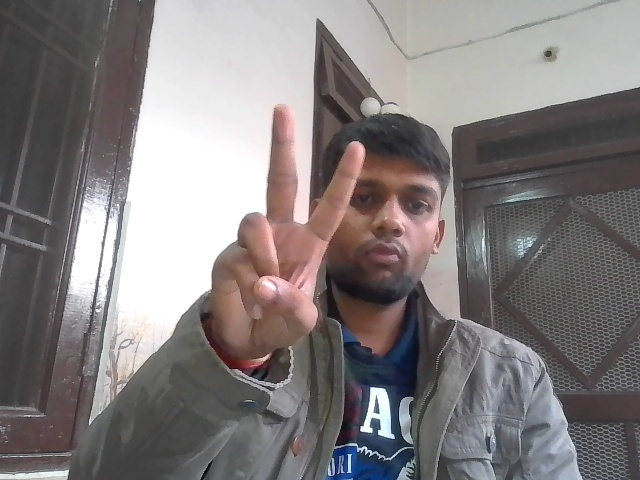Enjoy: (206, 94, 367, 357)
